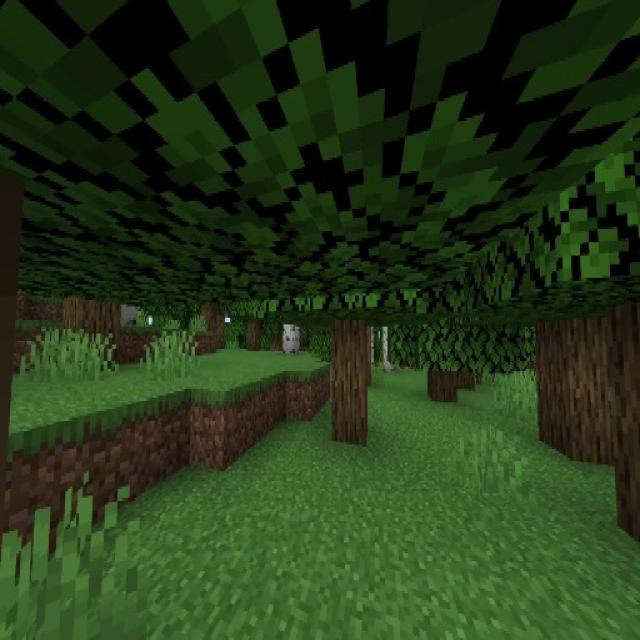birch_log: (282, 324, 299, 355)
oak: (446, 72, 640, 459), (392, 256, 498, 404)
oak_log: (538, 321, 640, 460), (332, 326, 368, 444), (68, 300, 121, 370), (430, 371, 458, 405), (247, 320, 260, 350)
